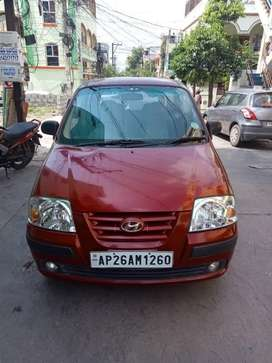AP26AM1260: (90, 250, 173, 267)
